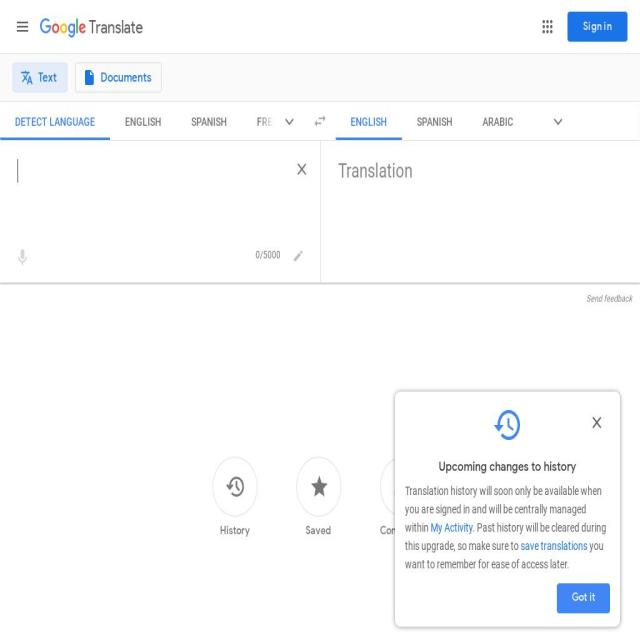button: (379, 457, 428, 538), (212, 457, 257, 538), (296, 457, 341, 538), (40, 18, 143, 38), (568, 12, 628, 42), (556, 584, 610, 614), (304, 102, 336, 140), (8, 6, 38, 46), (535, 10, 560, 43), (11, 242, 34, 272), (288, 243, 308, 266), (293, 158, 310, 180)
image: (405, 405, 610, 445), (379, 457, 424, 515), (212, 457, 256, 515), (296, 457, 340, 515), (274, 102, 304, 142), (543, 102, 573, 142), (259, 102, 274, 140), (528, 102, 543, 140), (588, 412, 604, 432), (312, 110, 327, 131), (15, 16, 30, 36), (540, 16, 555, 36), (294, 159, 309, 179), (15, 248, 30, 268), (290, 248, 306, 262)
link: (520, 539, 588, 553), (430, 521, 472, 534), (586, 294, 632, 304)
text: (405, 484, 602, 534), (405, 539, 604, 571), (405, 521, 606, 552), (405, 445, 610, 475), (0, 102, 110, 140), (335, 102, 402, 140), (110, 102, 176, 140), (176, 102, 242, 140), (402, 102, 468, 140), (242, 102, 306, 140), (467, 102, 528, 140), (338, 158, 412, 184), (101, 63, 151, 92), (86, 16, 143, 38), (379, 524, 428, 538), (212, 524, 257, 538), (296, 524, 341, 538), (38, 63, 57, 92), (571, 591, 595, 604), (255, 249, 281, 261)
